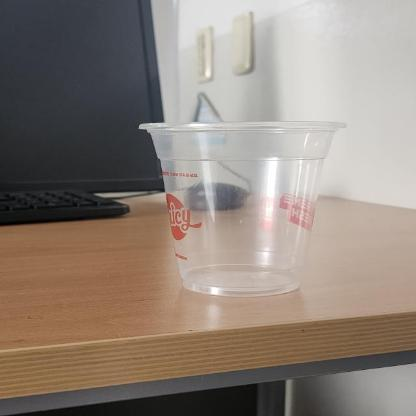Plastic Cup: (141, 119, 347, 299)
